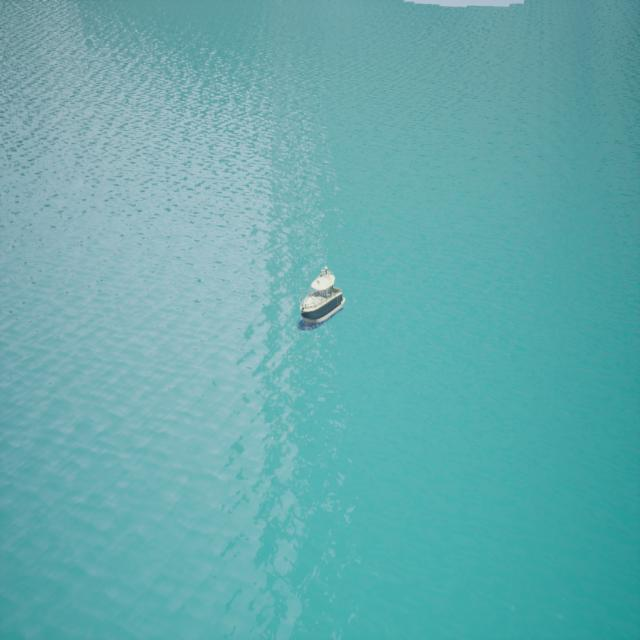ship: (293, 260, 350, 334)
